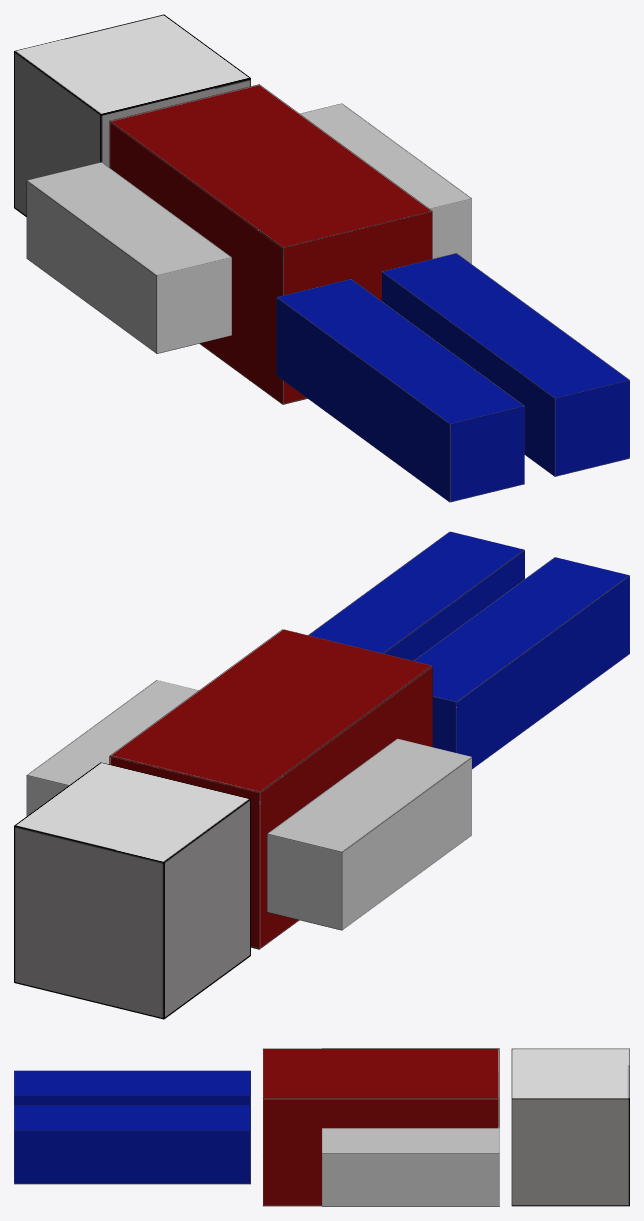
File: guy.dae
3 views of the same model, one above another, from view 1: azimuth 30°, elevation 25°; view 2: azimuth 150°, elevation 25°; view 3: azimuth 270°, elevation 25° (orthographic). The views are drawn at different scales.
Visible parts, largest first — view 1: body, leg2, arm2, leg1, head, arm1; view 2: head, body, leg2, arm2, leg1, arm1; view 3: body, leg1, head, arm1, leg2, arm2.
Boxes of the visible parts, x1,y1,x2,y2 form: body: [109, 84, 432, 404]; leg2: [276, 279, 524, 502]; arm2: [26, 162, 231, 353]; leg1: [381, 253, 629, 476]; head: [14, 14, 250, 216]; arm1: [299, 103, 471, 263]; head: [14, 762, 250, 1019]; body: [109, 629, 432, 949]; leg2: [413, 557, 629, 769]; arm2: [267, 738, 471, 930]; leg1: [308, 531, 524, 660]; arm1: [26, 680, 199, 815]; body: [262, 1048, 499, 1206]; leg1: [14, 1105, 250, 1184]; head: [511, 1048, 629, 1206]; arm1: [322, 1128, 499, 1206]; leg2: [14, 1070, 250, 1105]; arm2: [322, 1048, 499, 1126].
Bounding box in the file's own units: 2.1 × 5.2 × 1.
6 materials, 6 textured.
